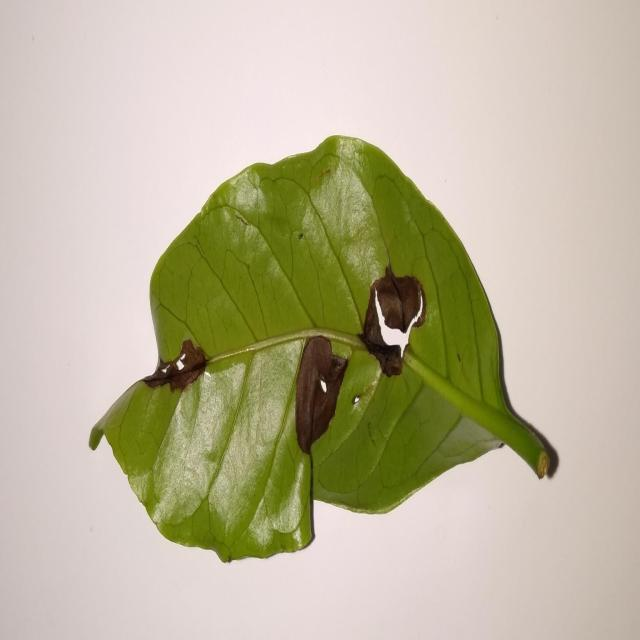Enfermedad-Antracnosis: (88, 136, 561, 567)
